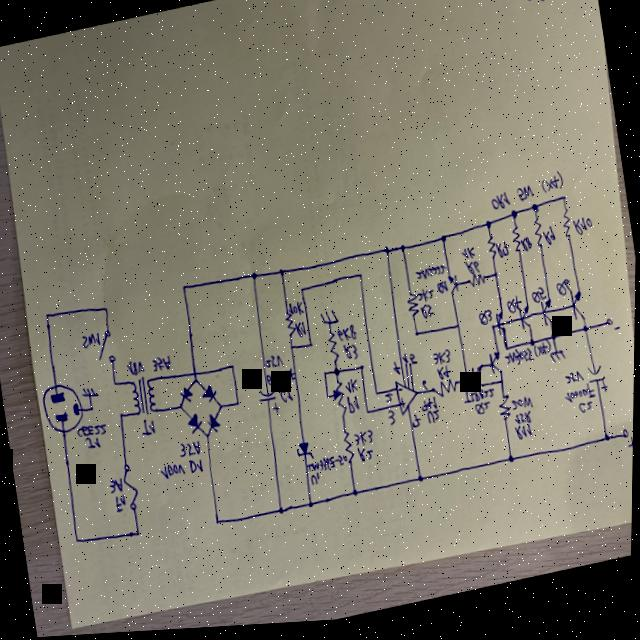capacitor: (585, 369, 610, 403), (258, 390, 282, 422)
crossover: (193, 372, 200, 380)
diode: (296, 443, 318, 468), (187, 414, 206, 440), (202, 386, 220, 408), (207, 415, 224, 438), (181, 389, 195, 406)
ground: (320, 312, 341, 331), (82, 386, 101, 403), (550, 355, 569, 371)
junction: (333, 370, 343, 382), (484, 224, 494, 236), (604, 440, 614, 452), (252, 273, 260, 286), (510, 215, 519, 226), (531, 210, 540, 221), (440, 239, 449, 250), (383, 250, 392, 261), (399, 248, 408, 259), (560, 199, 568, 211), (418, 479, 426, 491), (279, 509, 287, 520), (136, 530, 144, 541), (76, 536, 83, 548), (280, 270, 287, 282), (353, 491, 360, 503), (509, 461, 517, 471), (582, 331, 590, 341), (493, 277, 501, 286), (181, 286, 189, 295), (89, 406, 97, 415), (219, 404, 226, 414), (323, 373, 330, 383), (230, 365, 237, 375), (414, 335, 421, 345), (216, 520, 223, 530), (112, 381, 119, 391), (290, 346, 297, 356), (358, 276, 365, 286), (120, 413, 127, 422), (236, 402, 243, 411), (309, 505, 316, 514), (308, 344, 315, 353), (456, 328, 463, 337), (300, 290, 307, 299), (466, 381, 472, 391), (194, 380, 201, 388), (360, 368, 367, 375), (104, 308, 110, 315), (491, 330, 497, 337), (366, 413, 371, 421), (46, 313, 51, 320), (179, 406, 184, 413), (327, 398, 332, 405), (505, 352, 510, 359), (376, 396, 381, 402), (500, 386, 505, 391), (207, 436, 211, 442)
resistor: (330, 383, 351, 424), (432, 383, 461, 405), (341, 434, 358, 470), (327, 334, 343, 368), (498, 399, 515, 430), (532, 223, 546, 256), (560, 214, 574, 247), (510, 230, 525, 260), (406, 297, 422, 324), (283, 315, 298, 341), (468, 278, 489, 296), (487, 241, 498, 265)
switch: (94, 328, 119, 370)
terminal: (622, 436, 631, 447), (606, 325, 615, 335), (409, 368, 414, 373), (405, 368, 410, 373)
text: (503, 346, 555, 375), (306, 457, 350, 481), (462, 390, 498, 413), (414, 268, 449, 289), (266, 370, 298, 392), (565, 389, 597, 411), (77, 422, 109, 442), (540, 177, 566, 201), (161, 463, 188, 484), (573, 222, 595, 244), (179, 441, 203, 461), (491, 197, 512, 219), (264, 356, 287, 376), (153, 355, 174, 376), (337, 328, 359, 348), (512, 401, 536, 419), (127, 359, 147, 380), (516, 190, 536, 211), (355, 433, 375, 453), (82, 333, 103, 352), (506, 301, 525, 322), (433, 354, 453, 373), (141, 420, 159, 441), (514, 416, 534, 434), (343, 346, 360, 367), (495, 246, 512, 267), (114, 494, 130, 516), (543, 232, 558, 255), (478, 314, 496, 333), (516, 430, 534, 449), (108, 478, 126, 497), (565, 377, 585, 394), (532, 292, 549, 312), (347, 398, 362, 420), (85, 435, 103, 453), (190, 459, 207, 478), (557, 285, 573, 305), (358, 451, 376, 468), (421, 401, 439, 418), (280, 390, 296, 409), (417, 293, 436, 309), (475, 407, 493, 423), (289, 304, 305, 322), (420, 308, 436, 326), (465, 264, 481, 282), (295, 323, 308, 344), (461, 251, 477, 268), (520, 242, 534, 261), (437, 370, 453, 386), (345, 382, 360, 399), (436, 284, 450, 302), (386, 413, 399, 432), (579, 408, 595, 422), (428, 414, 442, 430), (311, 475, 323, 491), (412, 418, 424, 434), (393, 366, 404, 381), (409, 358, 420, 371), (627, 445, 634, 461), (386, 397, 395, 409), (402, 358, 411, 370), (400, 402, 409, 414), (422, 384, 430, 397), (614, 331, 623, 340), (530, 345, 537, 354), (551, 340, 558, 348), (399, 392, 405, 398)
transformer: (129, 377, 161, 421)
transistor: (567, 295, 588, 332), (516, 309, 534, 341), (539, 305, 557, 336), (471, 369, 488, 397), (489, 355, 505, 382), (495, 316, 510, 343), (447, 279, 462, 304)
